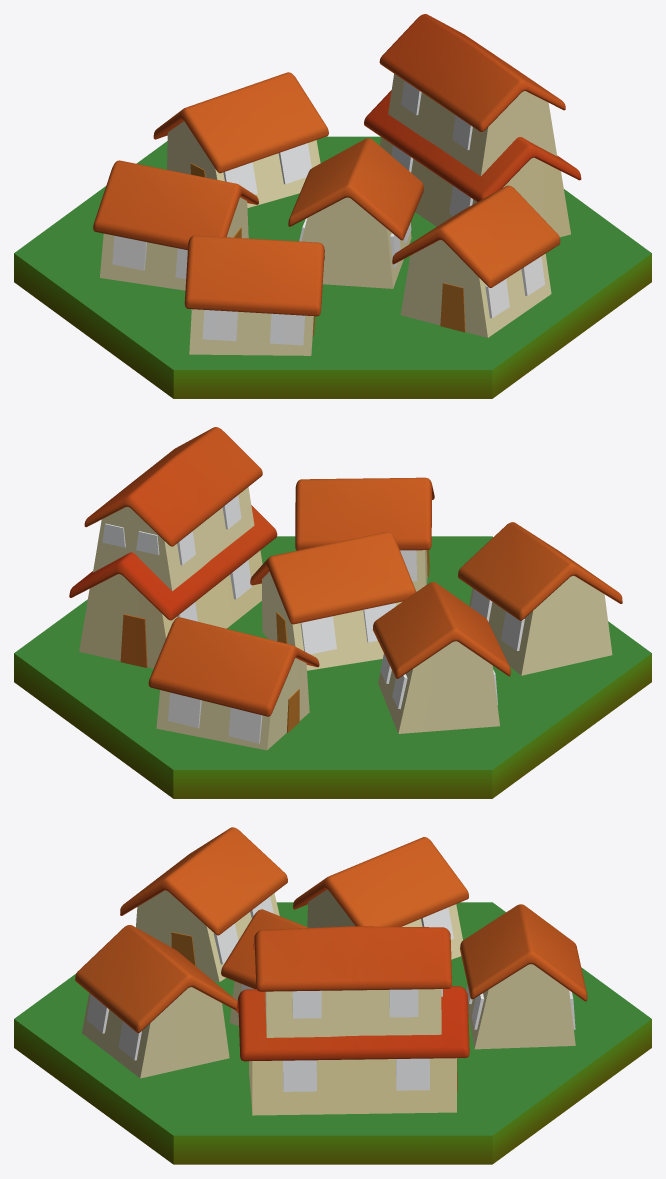
The model's file is hex4.fbx.
3 views of the same model, one above another, from view 1: azimuth 30°, elevation 25°; view 2: azimuth 150°, elevation 25°; view 3: azimuth 270°, elevation 25° (orthographic).
Parts seen in each view (by area): view 1: hex_house; view 2: hex_house; view 3: hex_house.
Boxes of the visible parts, left/top/right/bottom form: hex_house: left=14, top=14, right=651, bottom=398; hex_house: left=14, top=427, right=651, bottom=798; hex_house: left=14, top=827, right=651, bottom=1164.
Size of the model in its own units: 173 by 67.1 by 200.
